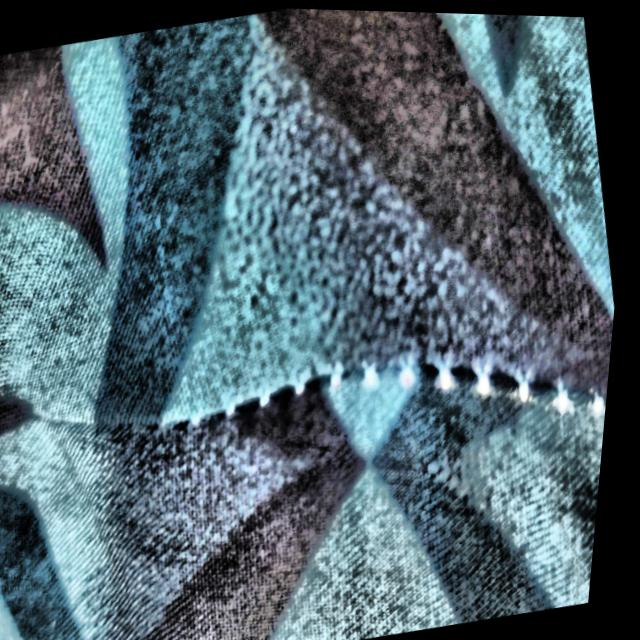Stitch: (156, 290, 620, 516)
